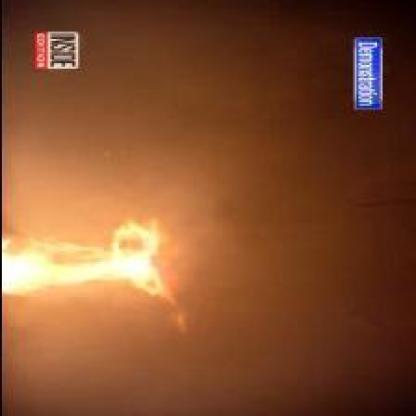Fire: (1, 229, 179, 298)
